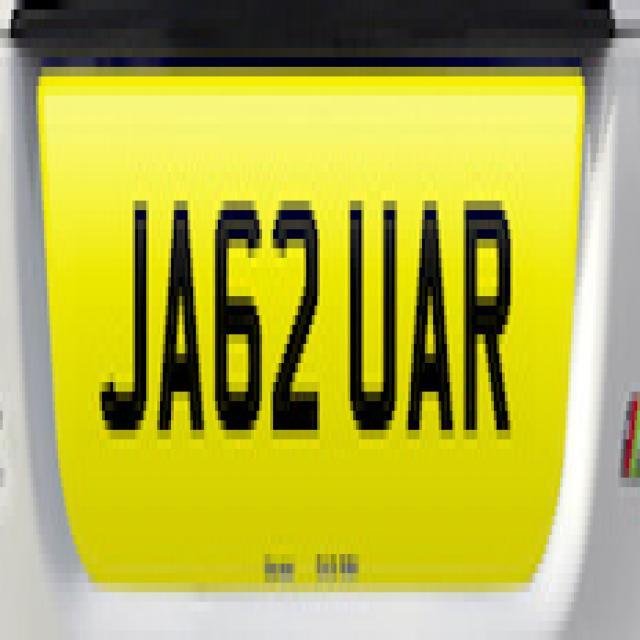6: (209, 174, 269, 472)
A: (156, 172, 207, 474), (406, 172, 458, 464)
J: (99, 163, 150, 454)
R: (458, 174, 520, 470)
U: (341, 174, 402, 454)
